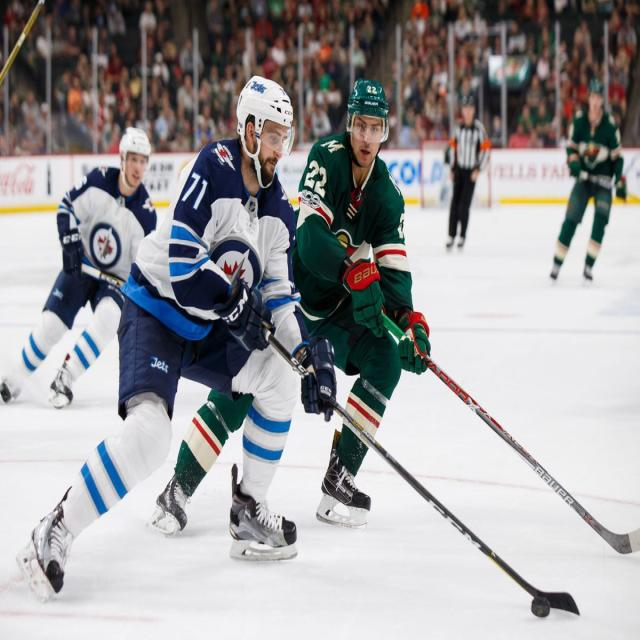body: (11, 70, 310, 610), (136, 72, 434, 544), (0, 118, 158, 419), (0, 0, 640, 74), (548, 78, 626, 282), (0, 71, 120, 156), (436, 89, 494, 250), (137, 75, 254, 152), (260, 74, 350, 140), (493, 75, 571, 148), (388, 75, 434, 152), (570, 74, 631, 120), (435, 74, 456, 140), (120, 70, 138, 128), (453, 72, 492, 90)
